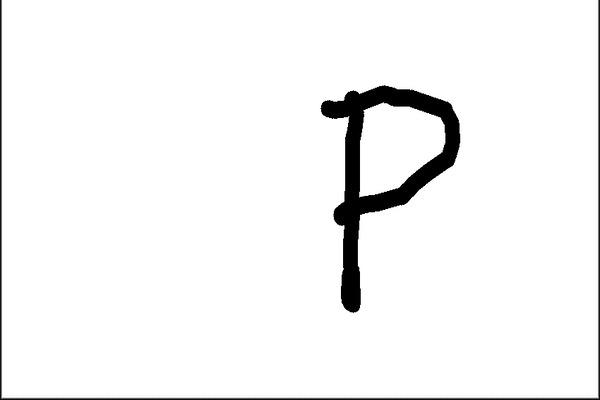P: (309, 69, 465, 320)
